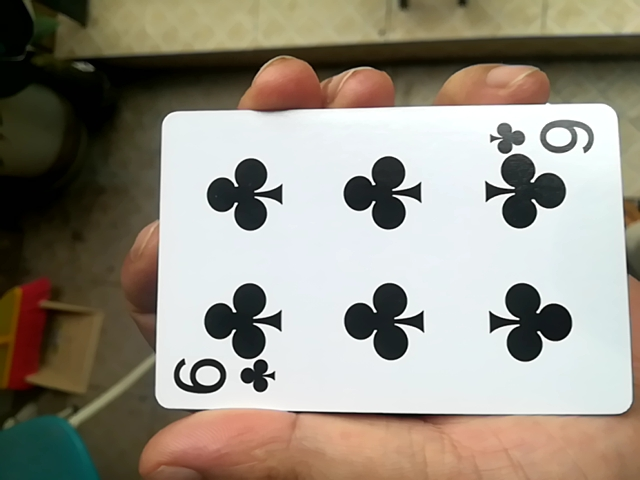mh 6: (137, 105, 628, 426)
